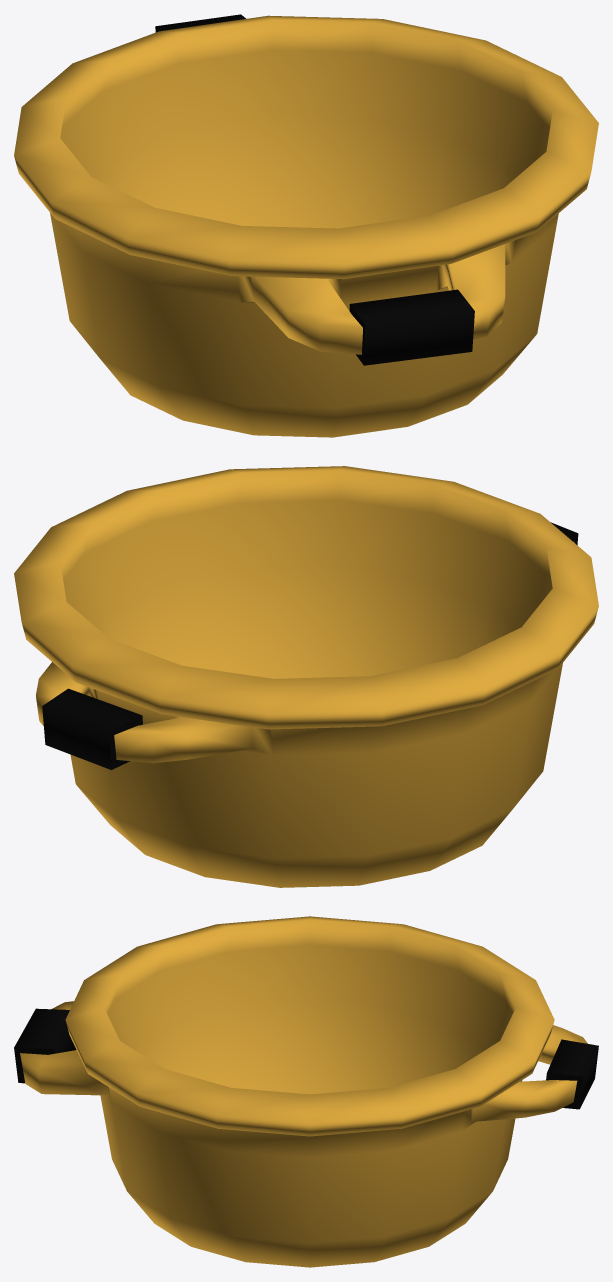
The model's file is Pot.fbx.
The picture shows the model from 3 angles, top to bottom: view 1: azimuth 30°, elevation 25°; view 2: azimuth 150°, elevation 25°; view 3: azimuth 270°, elevation 25°; orthographic projection. The views are drawn at different scales.
Parts seen in each view (by area): view 1: Pot; view 2: Pot; view 3: Pot.
Boxes of the visible parts, box(x1,y1,x2,y2) form: Pot: box(14, 14, 598, 437); Pot: box(14, 466, 598, 887); Pot: box(14, 916, 598, 1267).
Bounding box in the file's own units: 2.07 × 0.9022 × 2.47.
1 material, 1 textured.
